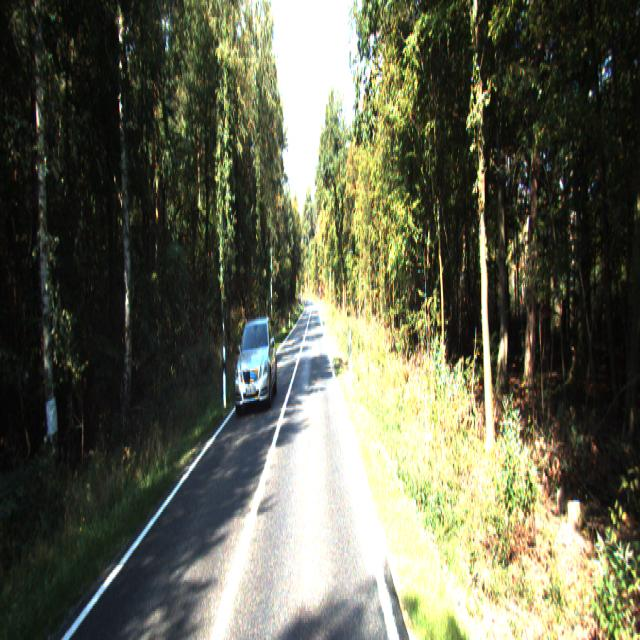Car: (231, 315, 278, 415)
